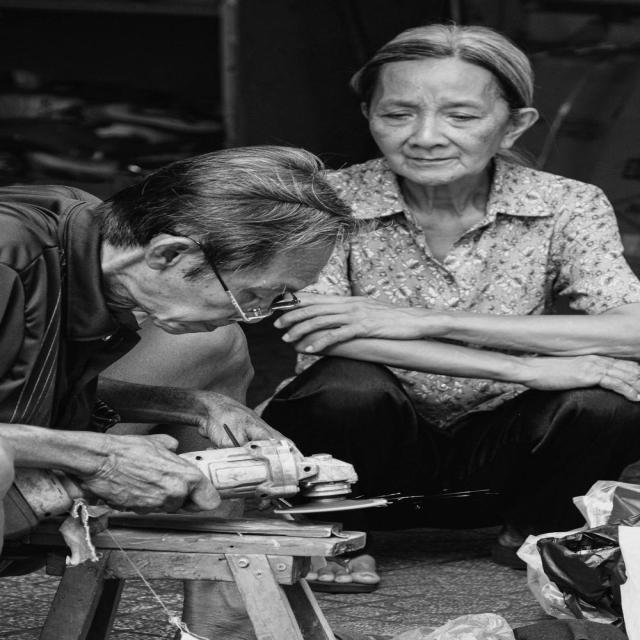angle_grinder: (0, 414, 398, 579)
glasses: (146, 222, 311, 324)
